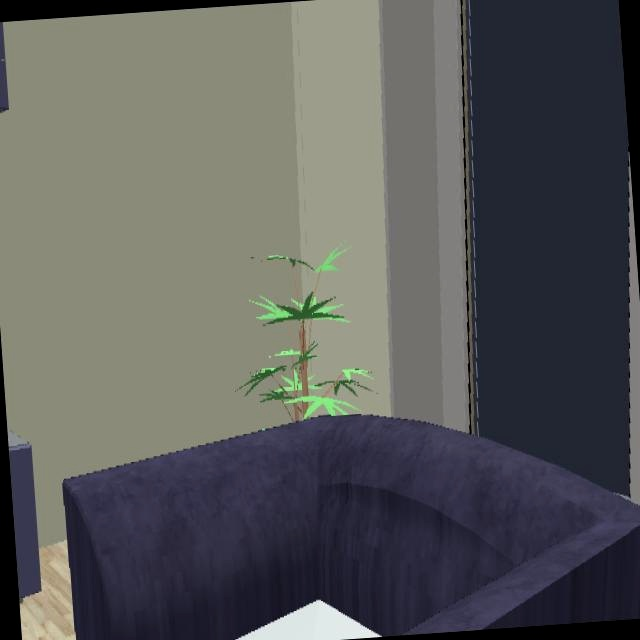sofa: (62, 414, 640, 640)
